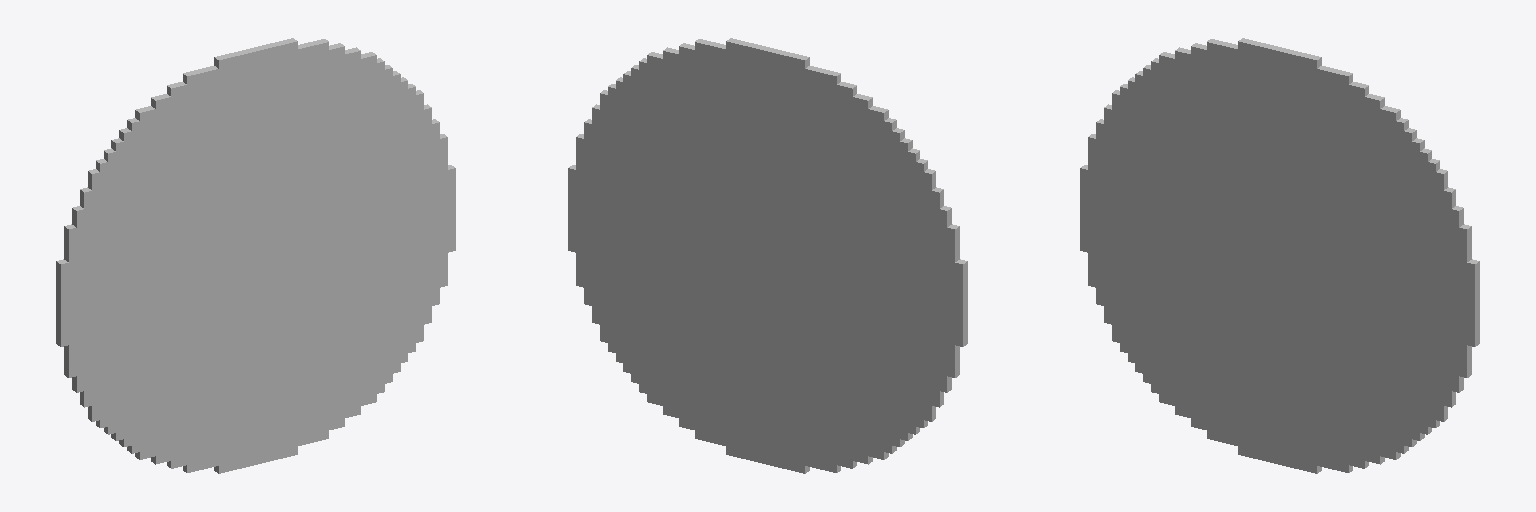
File: Coin.obj
3 renders of one model, left to right at view 1: azimuth 30°, elevation 25°; view 2: azimuth 150°, elevation 25°; view 3: azimuth 330°, elevation 25°, orthographic.
Parts seen in each view (by area): view 1: object 1; view 2: object 1; view 3: object 1.
Boxes of the visible parts, x1=… form: object 1: x1=56, y1=38, x2=455, y2=473; object 1: x1=568, y1=38, x2=967, y2=473; object 1: x1=1080, y1=38, x2=1479, y2=473.
Size of the model in its own units: 5 by 5 by 0.1.